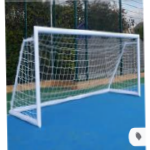goals: (8, 24, 142, 127)
